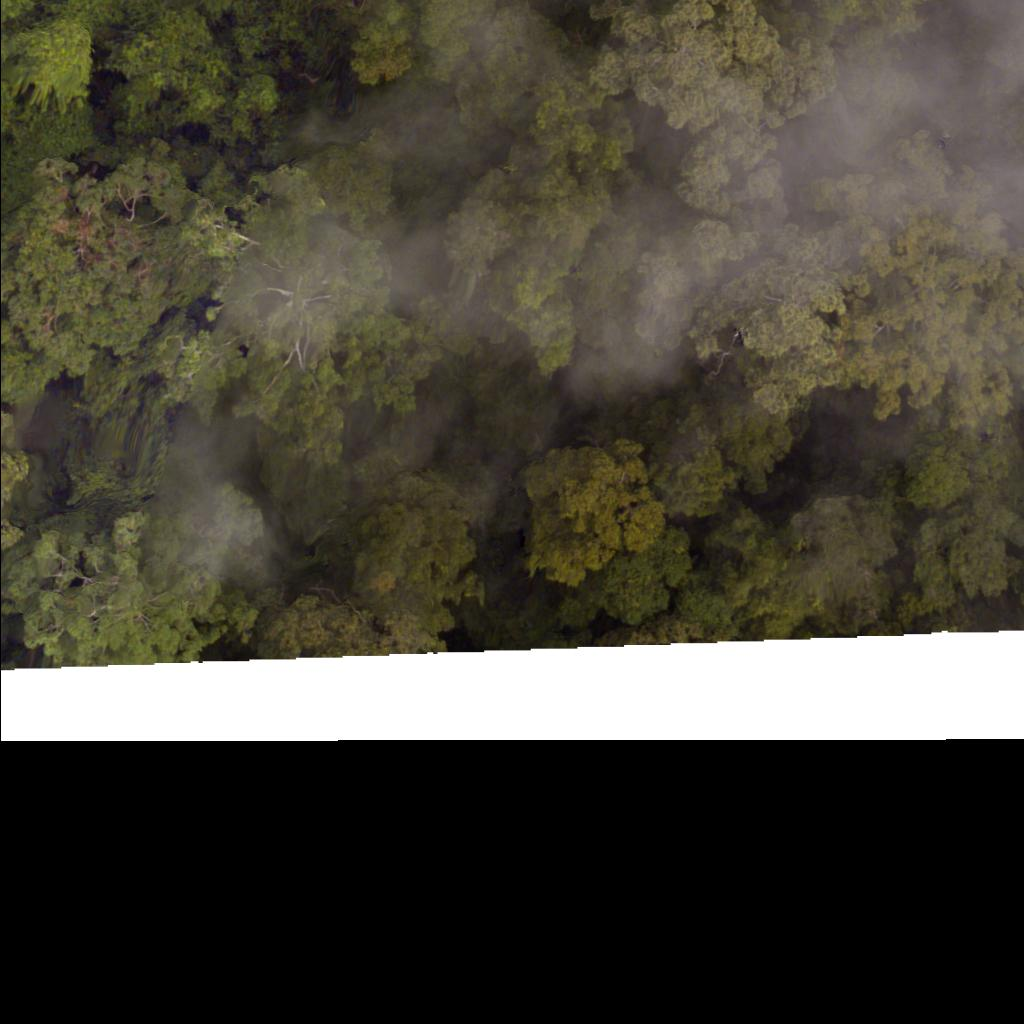crown: (0, 167, 245, 416), (0, 393, 46, 563)
